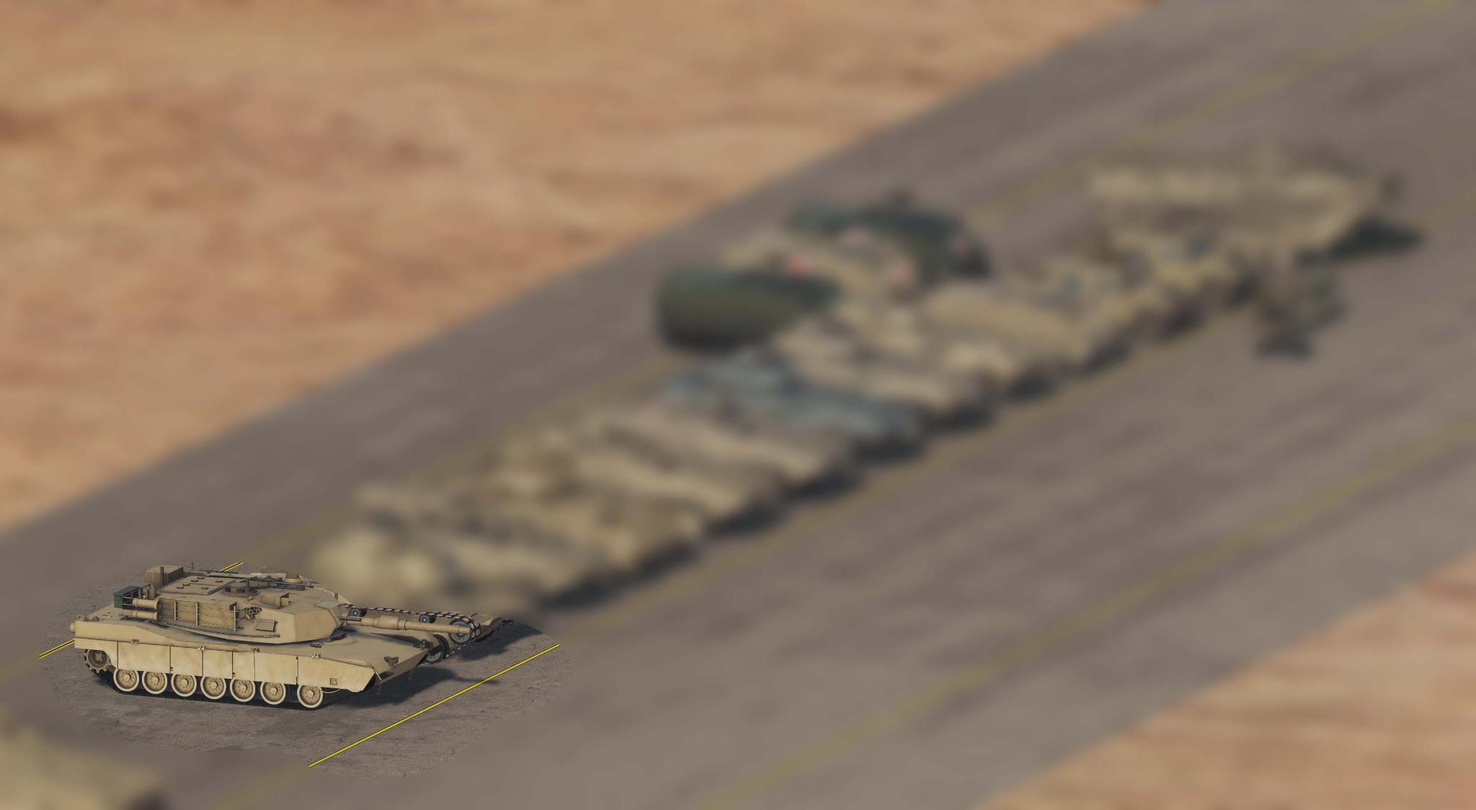tank: (70, 562, 511, 710)
